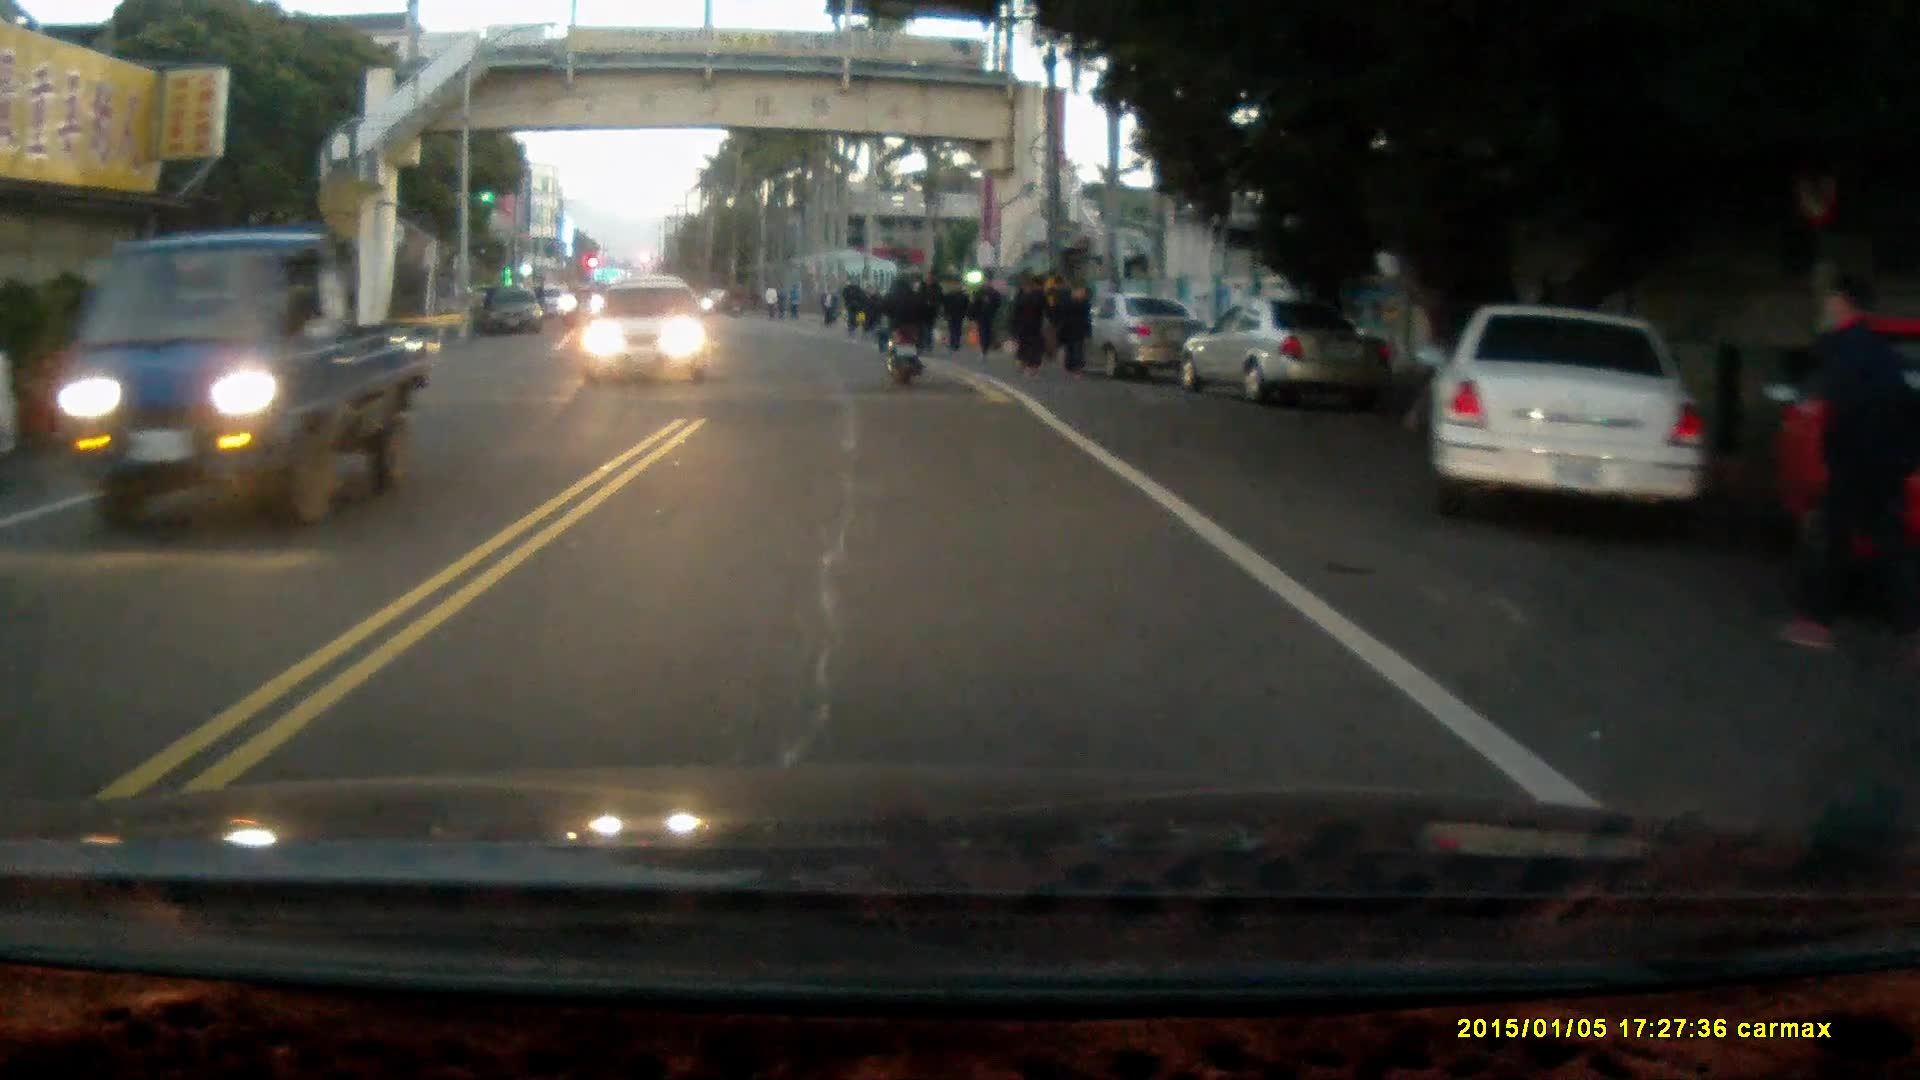pedestrian: (1775, 267, 1915, 677), (1007, 273, 1040, 375), (1025, 271, 1057, 370), (970, 267, 1001, 361), (1061, 284, 1093, 373), (941, 276, 973, 357)
rider: (871, 271, 927, 391)
vehicle: (54, 230, 433, 533), (1421, 302, 1740, 539), (1185, 297, 1392, 410), (582, 279, 713, 385), (1082, 293, 1210, 383)
